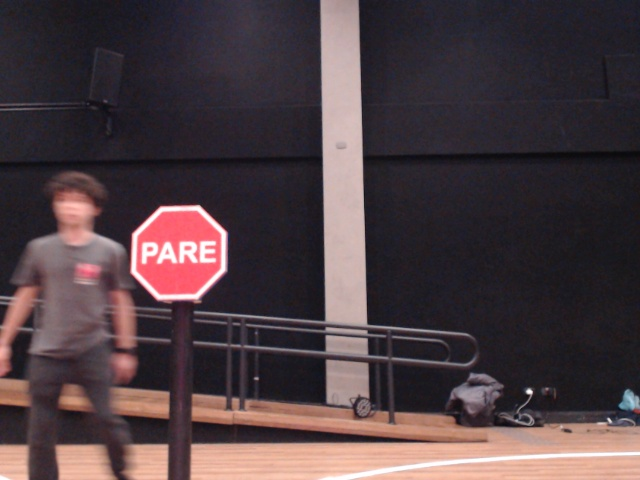SEMAFORO: (113, 191, 259, 326)
